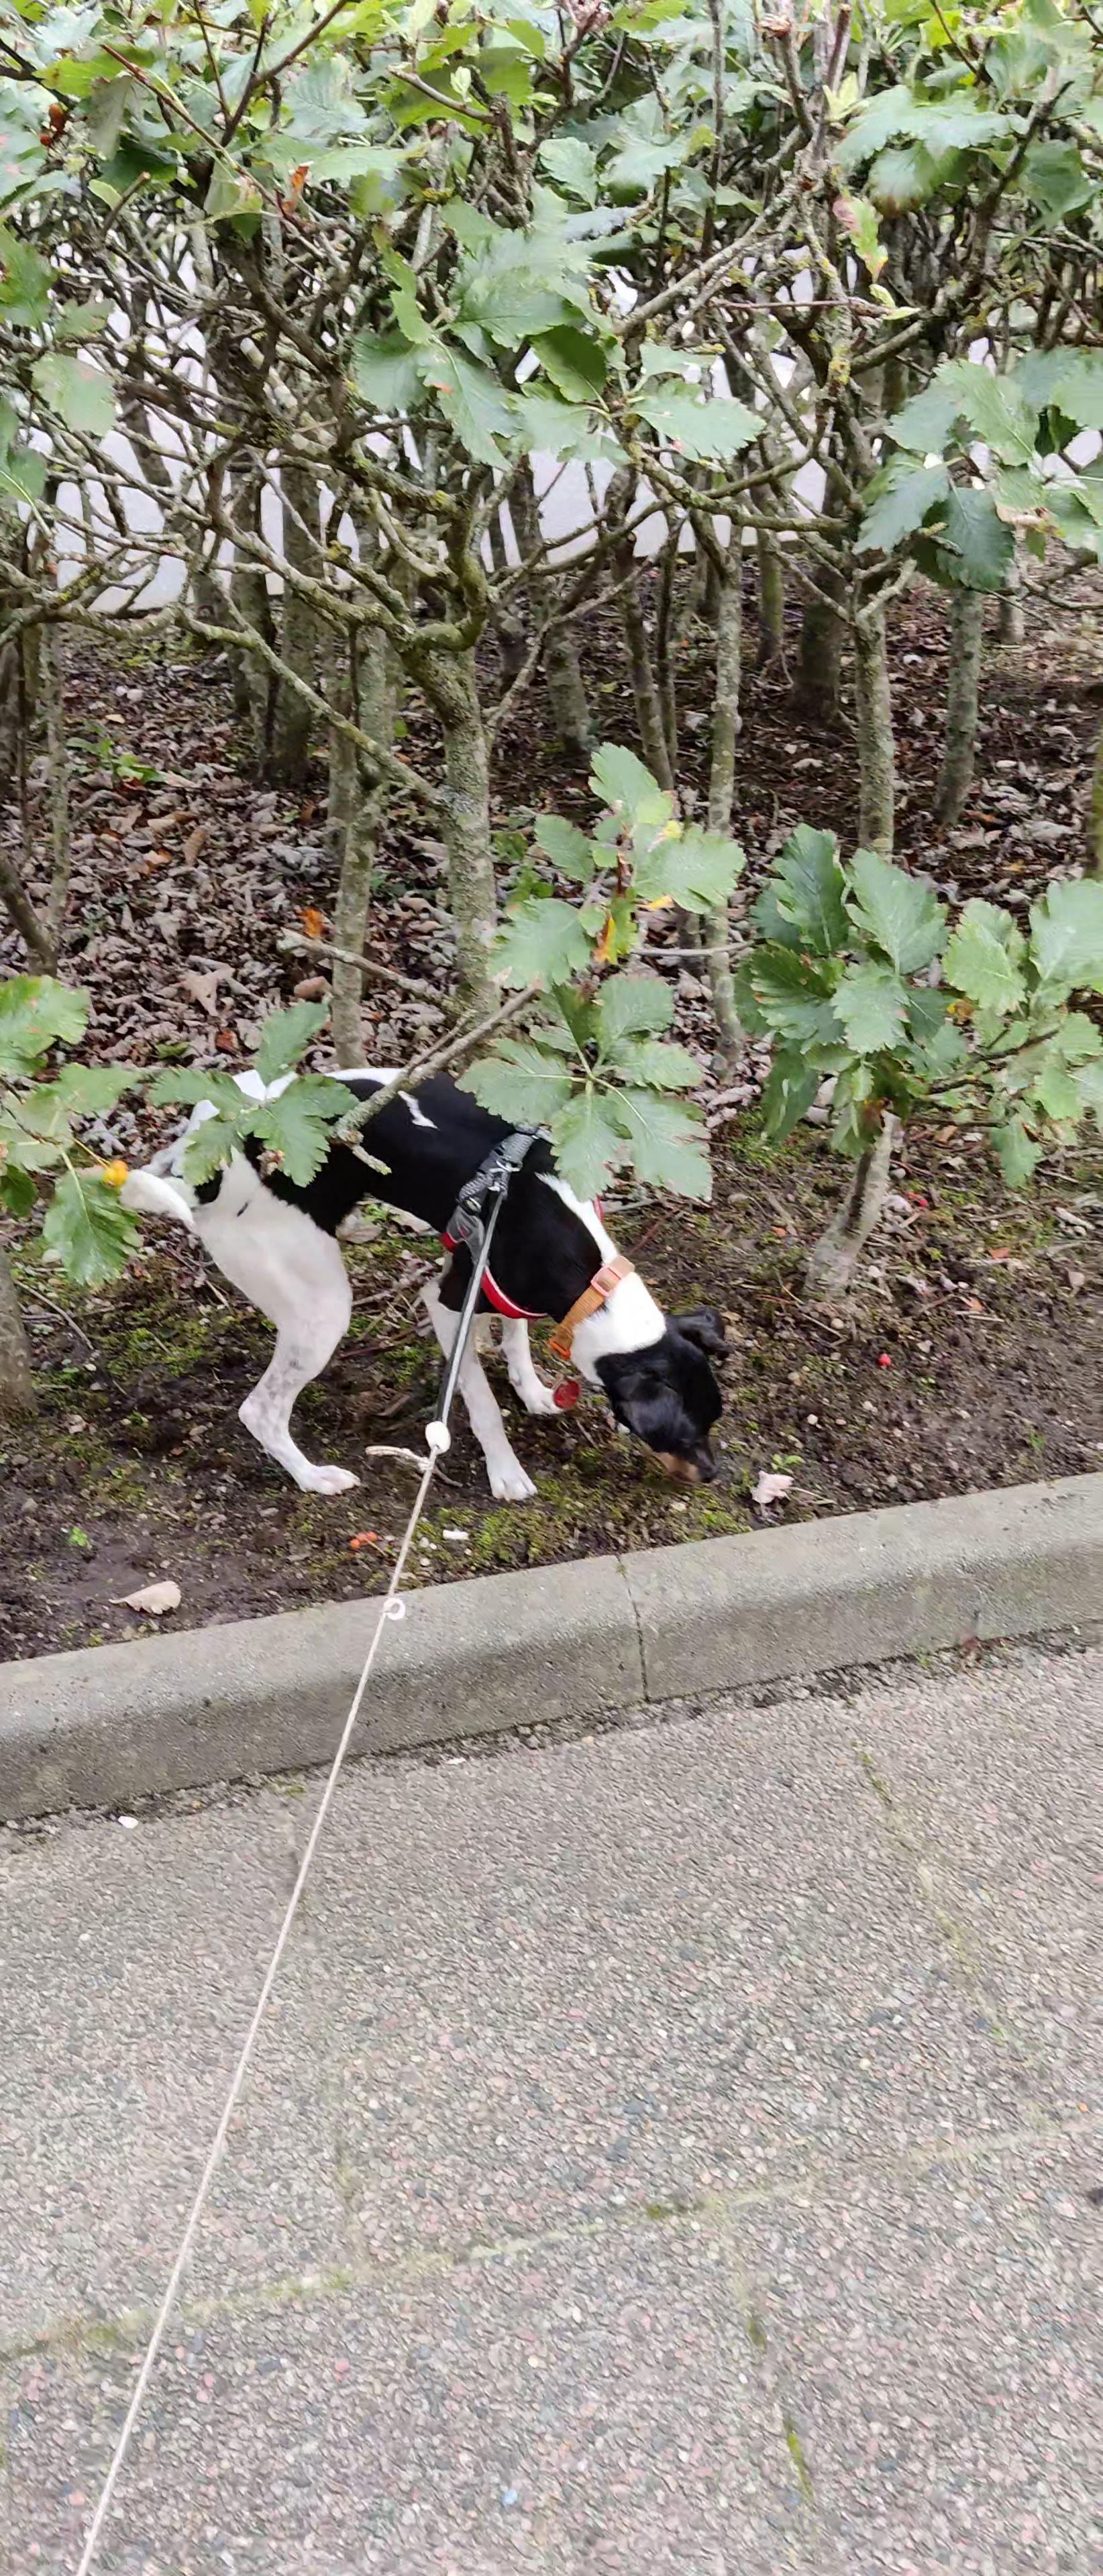Dog: (107, 1060, 741, 1502)
